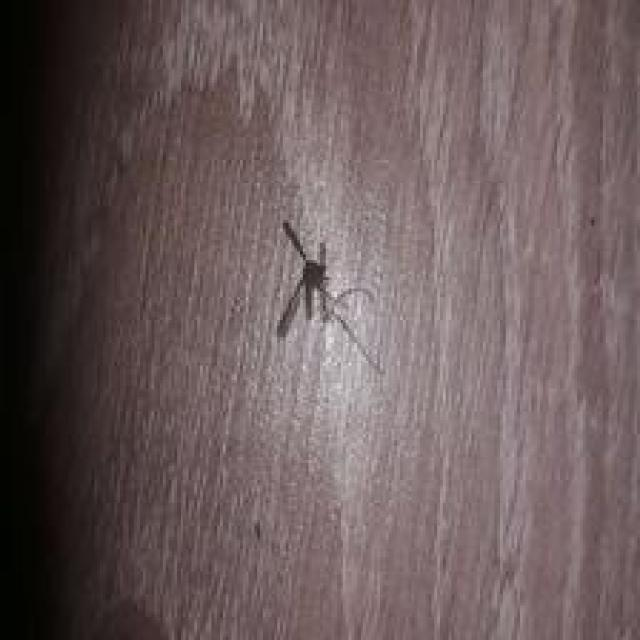Culex: (274, 218, 386, 376)
